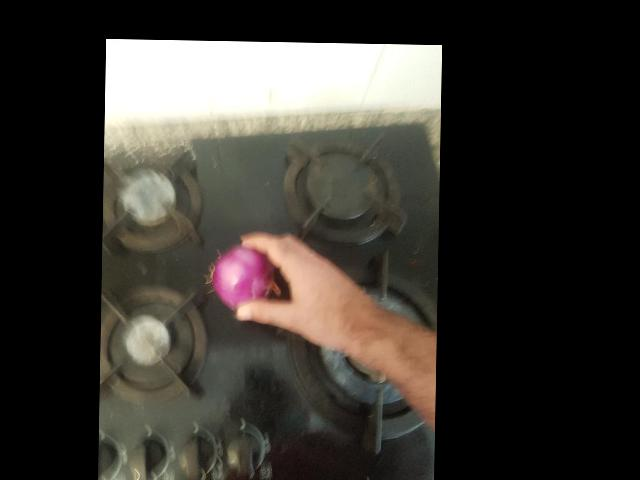onion: (164, 158, 234, 215)
